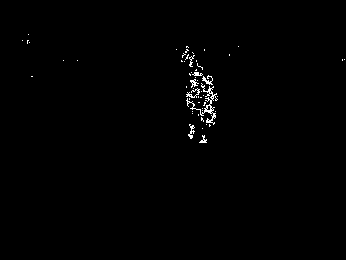person: (183, 60, 217, 147)
